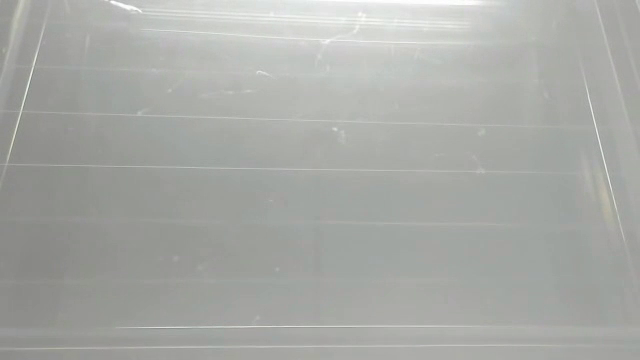alpha: (101, 1, 145, 16)
